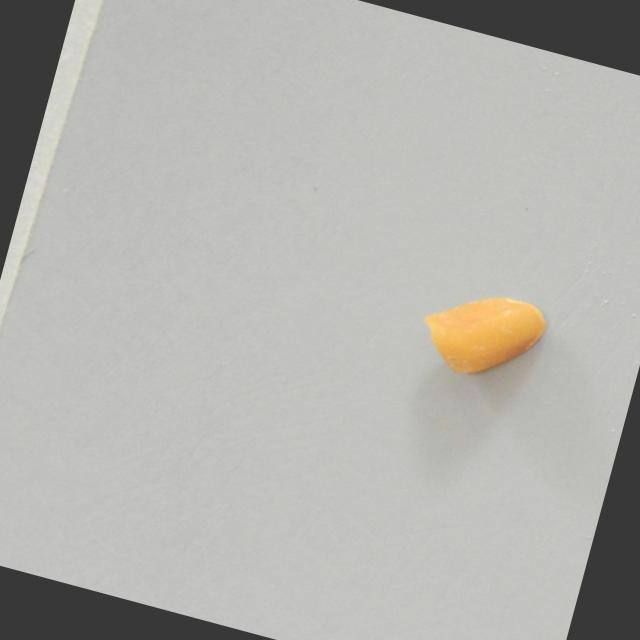dañado: (407, 270, 553, 394)
